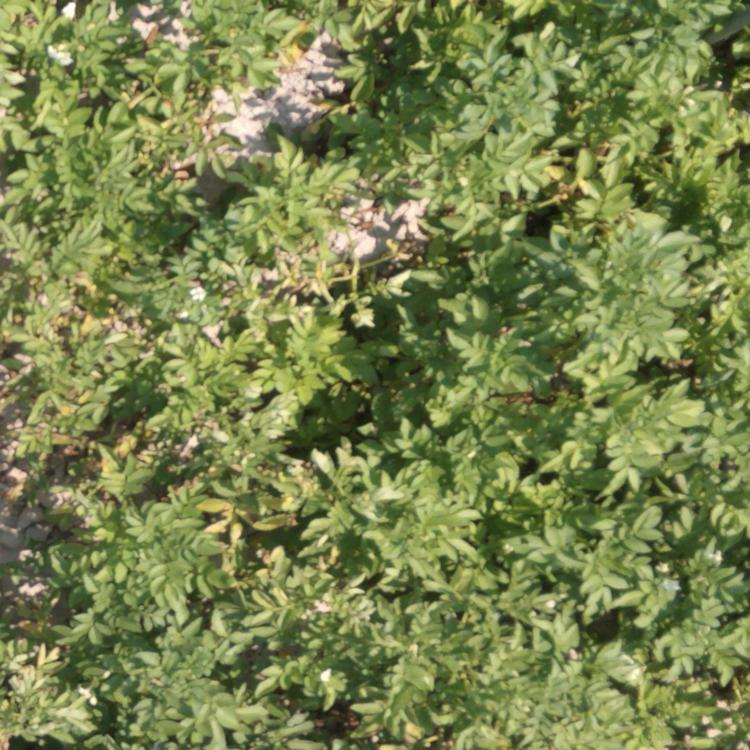healthy: (323, 219, 750, 746), (396, 1, 748, 212), (8, 599, 320, 749), (1, 1, 179, 210), (21, 469, 195, 598)
stressed: (1, 219, 316, 466), (207, 3, 378, 208), (212, 480, 315, 587)
